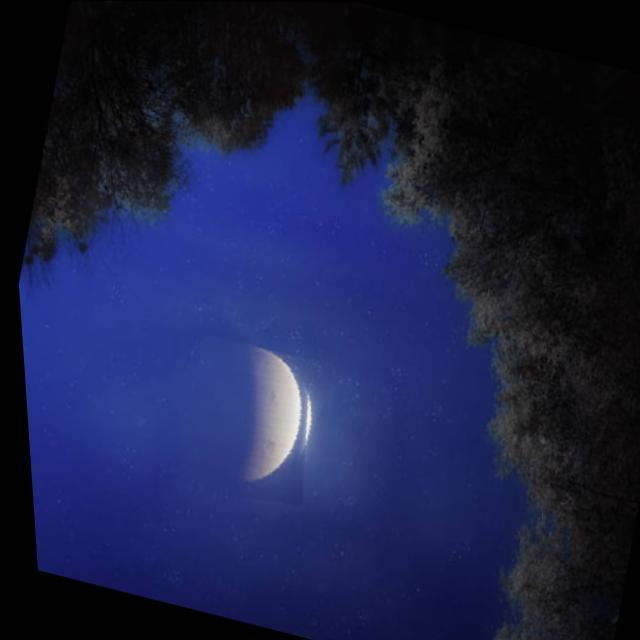moon: (160, 333, 331, 519)
